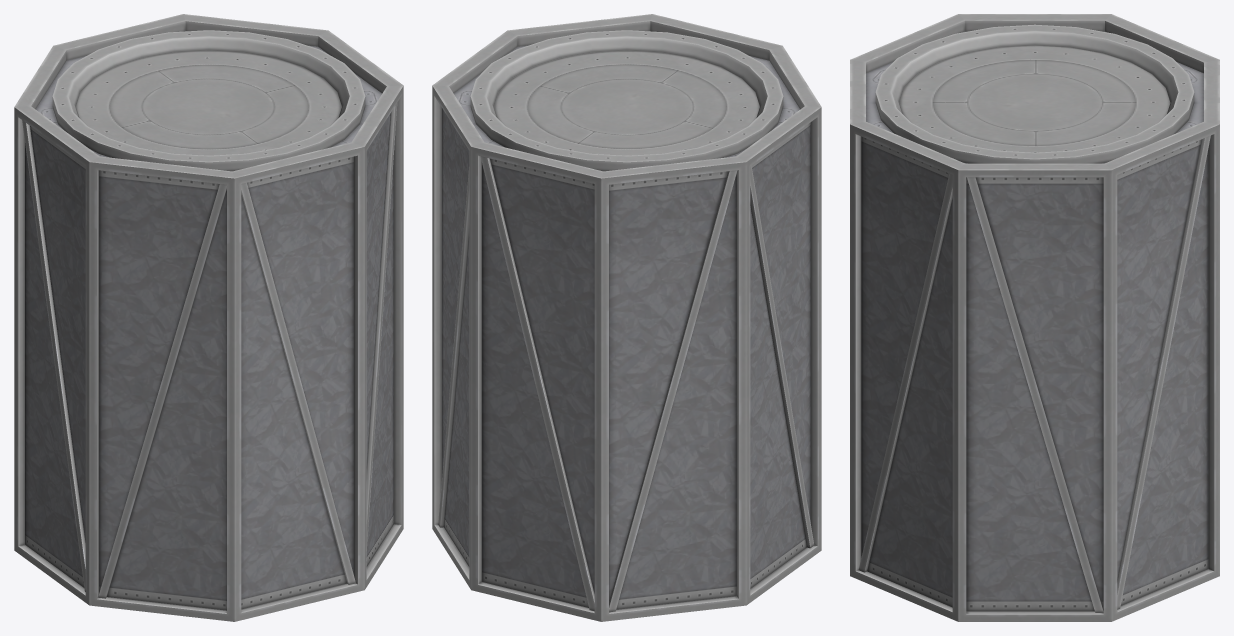
File: Nashira_Truss_2_1.obj
3 views of the same model, side by side, from view 1: azimuth 30°, elevation 25°; view 2: azimuth 150°, elevation 25°; view 3: azimuth 270°, elevation 25° (orthographic).
Parts seen in each view (by area): view 1: Nashira_Truss_2_1; view 2: Nashira_Truss_2_1; view 3: Nashira_Truss_2_1.
Part boxes in pixels (x1,y1,x2,y2): Nashira_Truss_2_1: [14, 14, 403, 621]; Nashira_Truss_2_1: [432, 14, 821, 621]; Nashira_Truss_2_1: [850, 14, 1219, 621].
Bounding box in the file's own units: 1.45 × 1.96 × 1.45.
